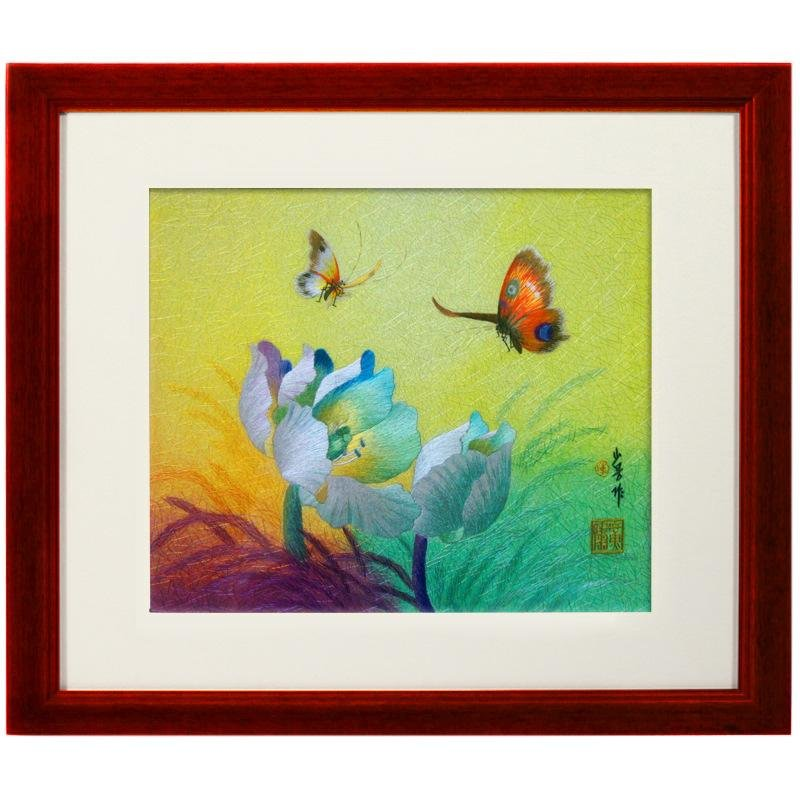lotus: (237, 339, 421, 537), (410, 413, 515, 543)
